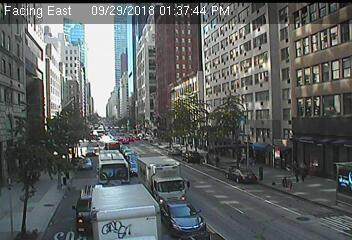car: (91, 185, 160, 240), (136, 157, 188, 211), (73, 185, 108, 237), (158, 201, 205, 236), (96, 150, 131, 195), (225, 167, 256, 184), (105, 141, 120, 159), (181, 151, 200, 163), (128, 160, 140, 176), (166, 147, 180, 158), (80, 158, 91, 170)
